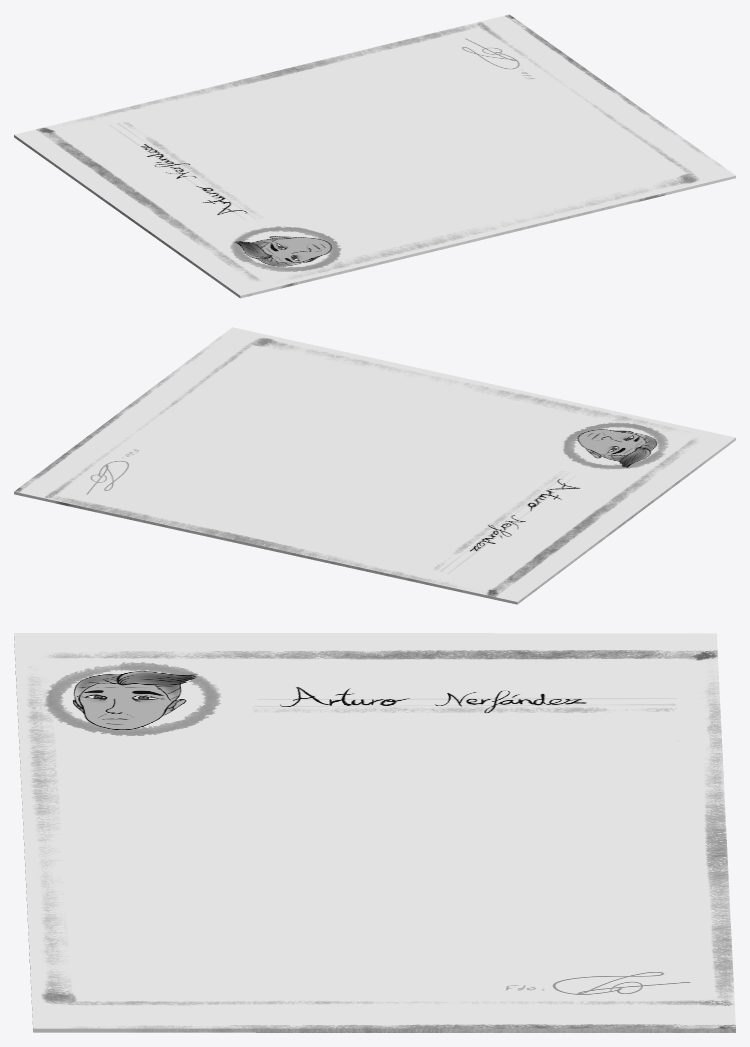
Rendered from arturo.fbx.
3 views of the same model, one above another, from view 1: azimuth 30°, elevation 25°; view 2: azimuth 150°, elevation 25°; view 3: azimuth 270°, elevation 25° (orthographic). The views are drawn at different scales.
Parts seen in each view (by area): view 1: paper.004; view 2: paper.004; view 3: paper.004.
Part boxes in pixels (x1,y1,x2,y2): paper.004: [14, 14, 735, 298]; paper.004: [14, 327, 735, 604]; paper.004: [14, 633, 735, 1032].
Size of the model in its own units: 79.36 by 1.64 by 62.51.
Materials: 1 (1 with a texture image).
